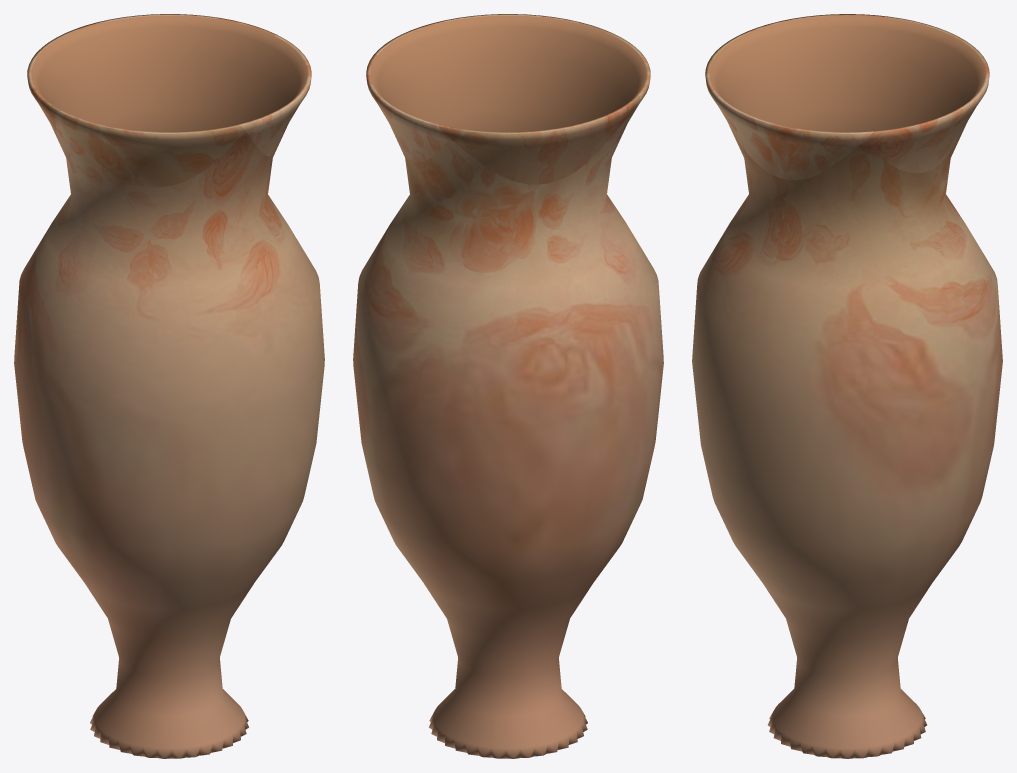
File: vase_8ef20787.glb
3 renders of one model, left to right at view 1: azimuth 30°, elevation 25°; view 2: azimuth 150°, elevation 25°; view 3: azimuth 270°, elevation 25°, orthographic.
Visible parts, largest first — view 1: Cylinder; view 2: Cylinder; view 3: Cylinder.
Boxes of the visible parts, x1=… form: Cylinder: x1=14, y1=14, x2=324, y2=758; Cylinder: x1=353, y1=14, x2=663, y2=758; Cylinder: x1=692, y1=14, x2=1002, y2=758.
Size of the model in its own units: 2.28 by 5.34 by 2.28.
1 material, 1 textured.
